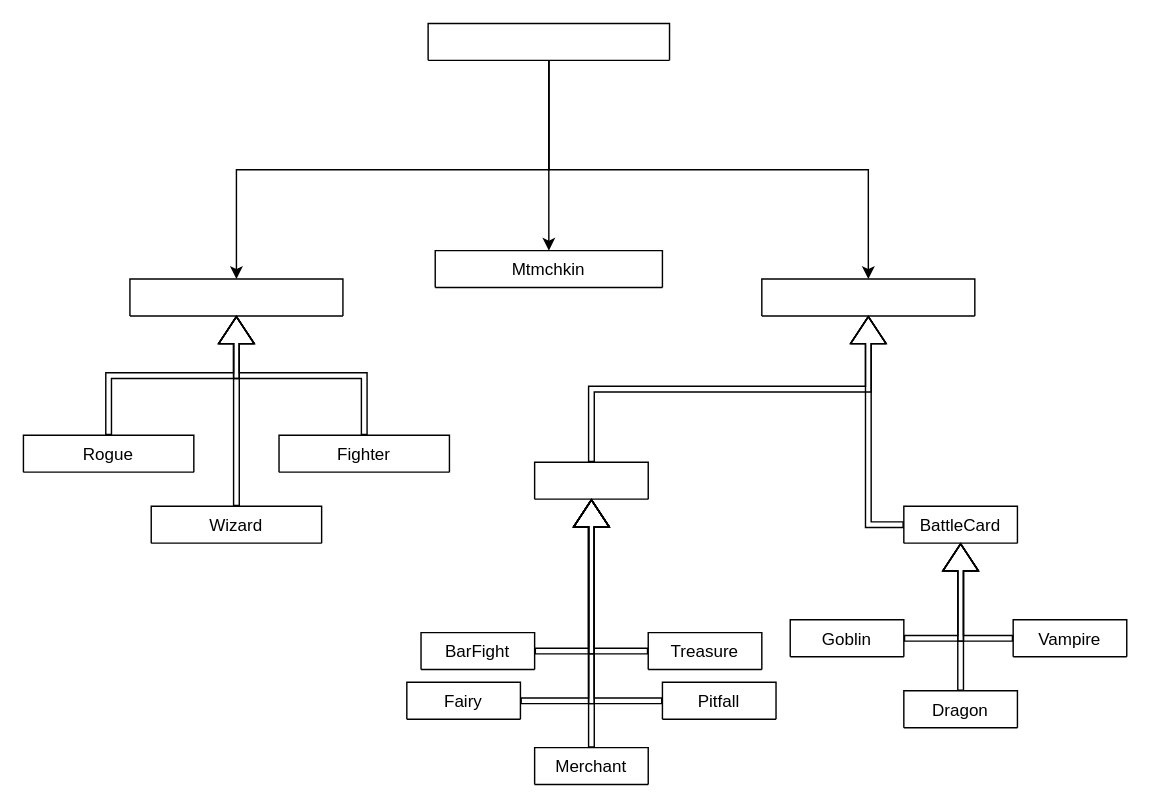
Image size: 1150x808. Some labels were removed from this diagram. Here are the shapes that lost their labels. From the top down, the box of each, then its label:
(427, 22, 670, 60): main
(129, 278, 343, 316): Player
(760, 278, 975, 316): Card
(533, 461, 648, 499): SpecialCard
